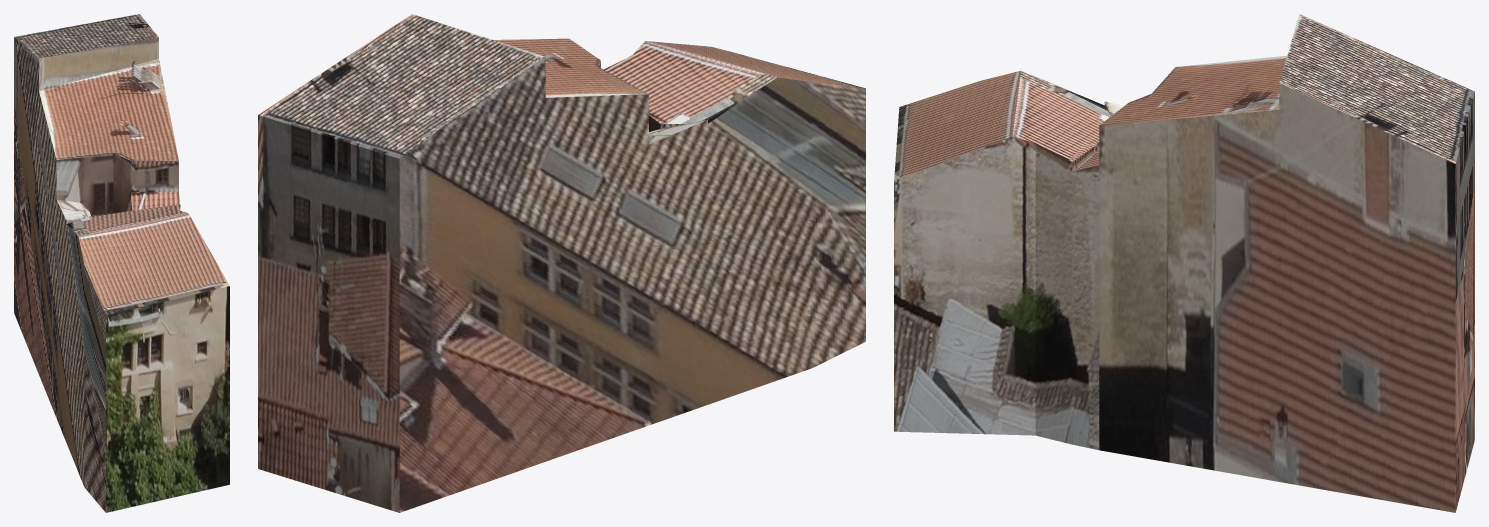
The picture shows the model from 3 angles, left to right: view 1: azimuth 30°, elevation 25°; view 2: azimuth 150°, elevation 25°; view 3: azimuth 270°, elevation 25°; orthographic projection. The views are drawn at different scales.
Visible parts, largest first — view 1: Z_UP; view 2: Z_UP; view 3: Z_UP.
Part boxes in pixels (left/top/right/bottom): Z_UP: left=14, top=14, right=229, bottom=512; Z_UP: left=258, top=14, right=865, bottom=512; Z_UP: left=894, top=14, right=1474, bottom=512.
Size of the model in its own units: 15.35 by 18.26 by 24.07.
2 materials, 1 textured.
